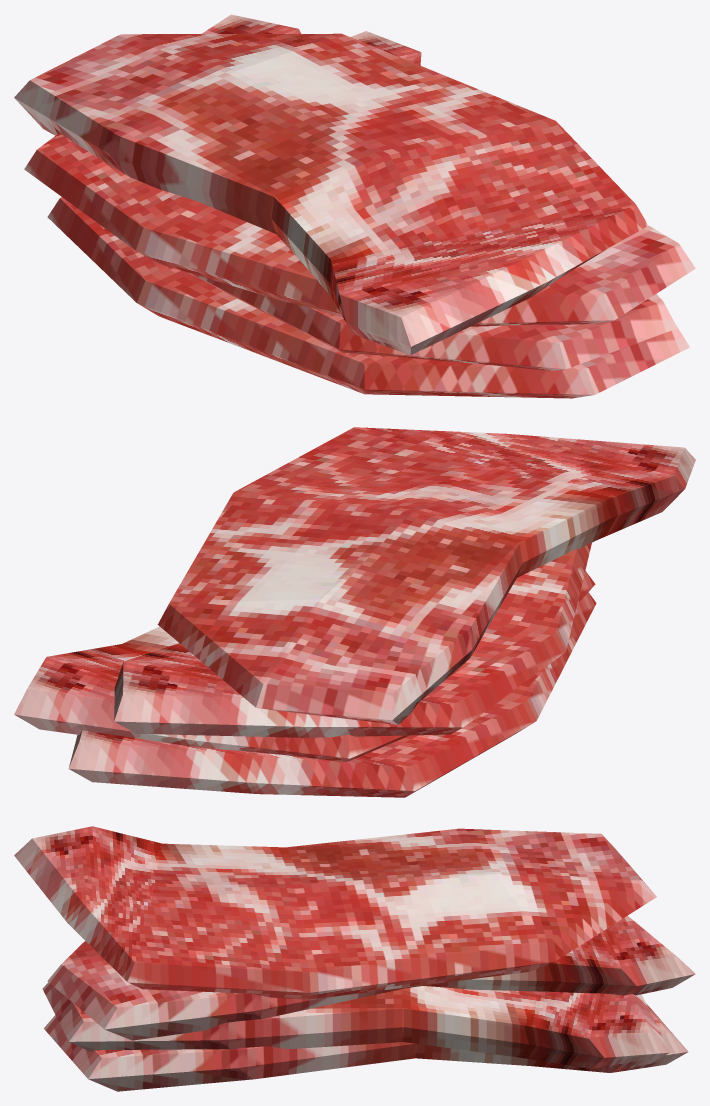
The model's file is Stack daging 1.fbx.
3 renders of one model, top to bottom at view 1: azimuth 30°, elevation 25°; view 2: azimuth 150°, elevation 25°; view 3: azimuth 270°, elevation 25°, orthographic. The views are drawn at different scales.
Visible parts, largest first — view 1: Plane.007, Plane.006, Plane.004, Plane.005; view 2: Plane.007, Plane.006, Plane.004, Plane.005; view 3: Plane.007, Plane.005, Plane.006, Plane.004.
Part boxes in pixels (x1,y1,x2,y2): Plane.007: (14,33,648,355); Plane.006: (24,14,695,326); Plane.004: (47,197,689,398); Plane.005: (187,31,677,370); Plane.007: (157,427,695,724); Plane.006: (114,543,591,737); Plane.004: (68,592,596,797); Plane.005: (14,571,595,762); Plane.007: (14,826,656,999); Plane.005: (42,982,669,1068); Plane.006: (47,915,695,1040); Plane.004: (44,1003,688,1091).
Bounding box in the file's own units: 95.99 × 35.71 × 159.
